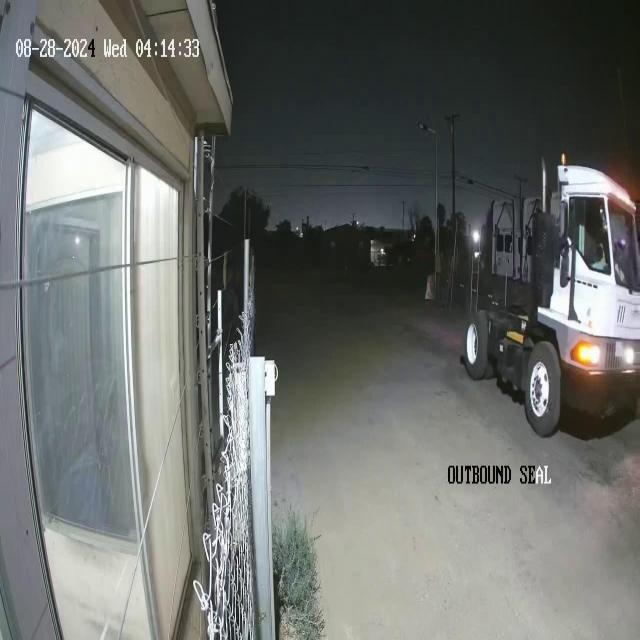TRUCK_IN: (462, 151, 639, 438)
